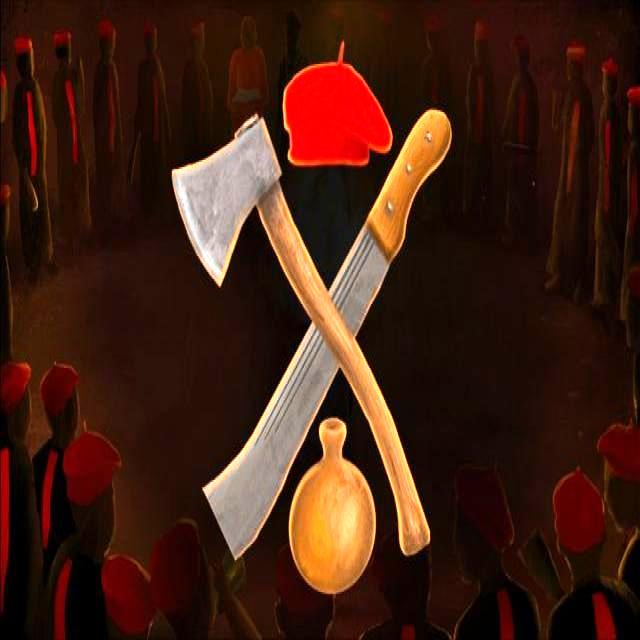long knife: (196, 144, 454, 588)
